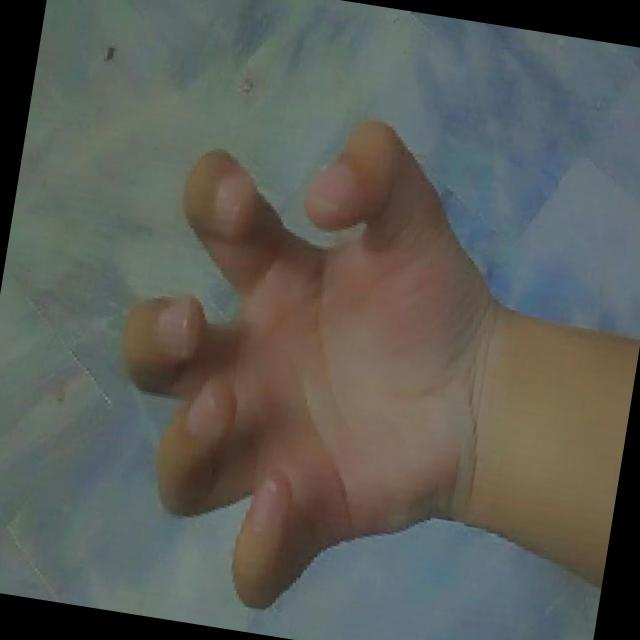Nail: (250, 474, 290, 531), (158, 296, 190, 357), (311, 164, 352, 209), (188, 386, 217, 436), (216, 177, 243, 223)
